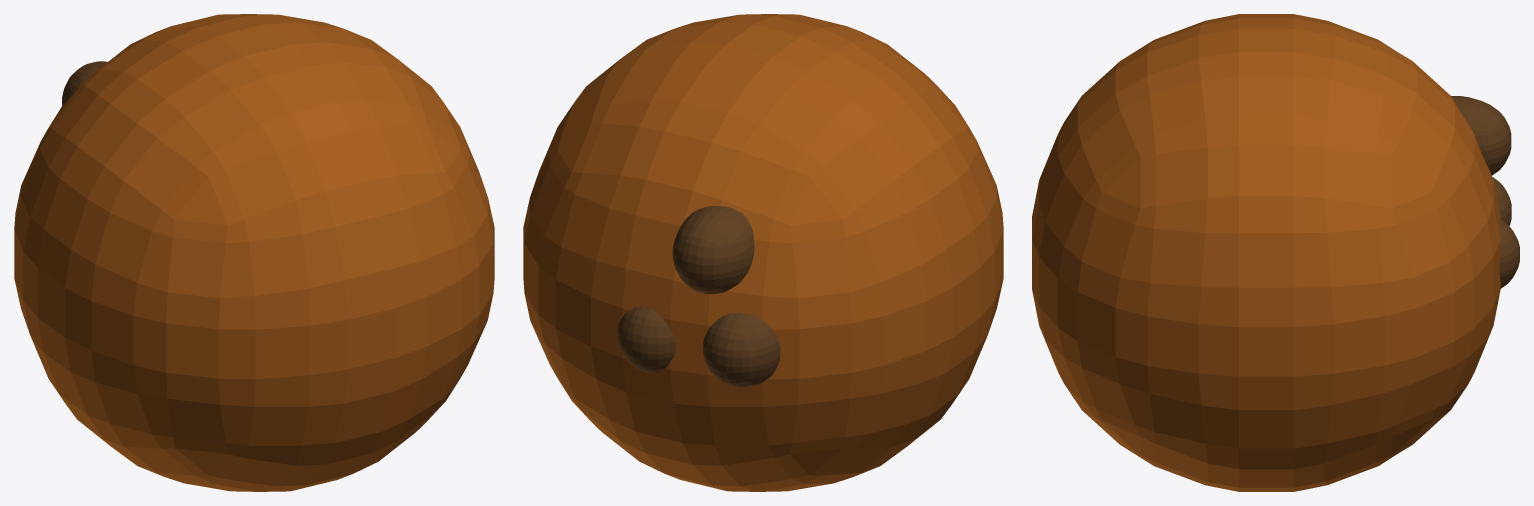
Rendered from Coconut.fbx.
3 views of the same model, side by side, from view 1: azimuth 30°, elevation 25°; view 2: azimuth 150°, elevation 25°; view 3: azimuth 270°, elevation 25° (orthographic).
Parts seen in each view (by area): view 1: Cube, Cube.002; view 2: Cube, Cube.002, Cube.003, Cube.001; view 3: Cube, Cube.002, Cube.001.
Boxes of the visible parts, box(x1,y1,x2,y2) form: Cube: box(14, 14, 494, 491); Cube.002: box(62, 61, 107, 105); Cube: box(523, 14, 1003, 491); Cube.002: box(672, 205, 754, 294); Cube.003: box(703, 312, 780, 387); Cube.001: box(617, 306, 675, 373); Cube: box(1032, 14, 1500, 491); Cube.002: box(1451, 96, 1511, 175); Cube.001: box(1499, 219, 1519, 288).
Bounding box in the file's own units: 169 × 169 × 176.
